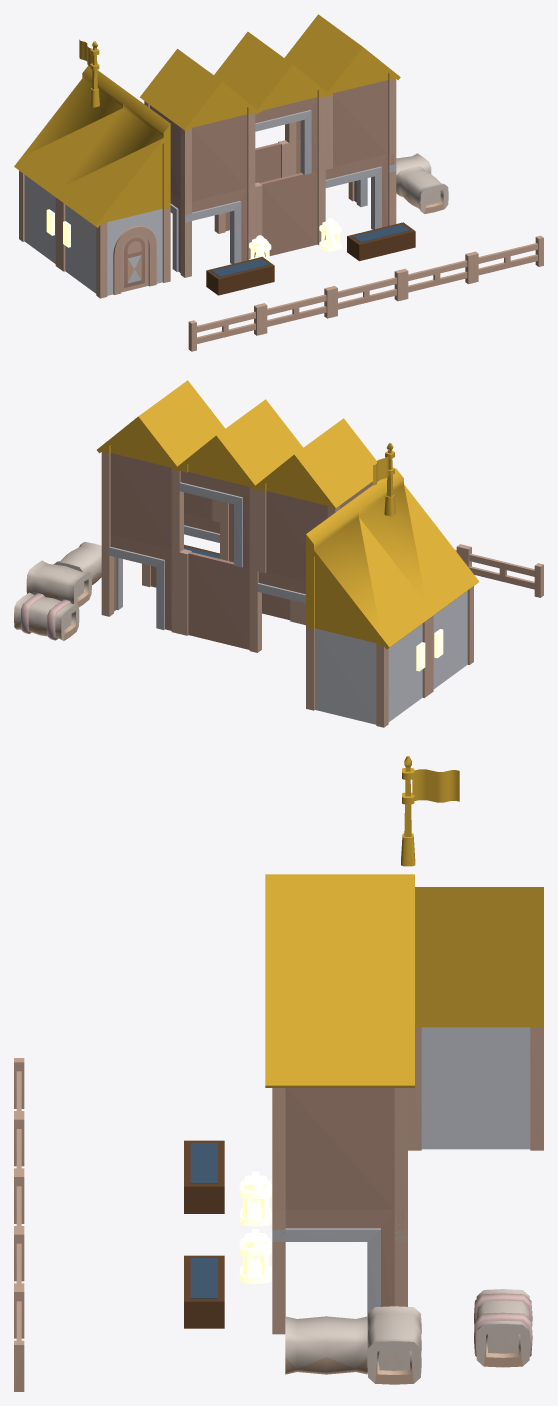
Rendered from stables_l3.glb.
The picture shows the model from 3 angles, top to bottom: view 1: azimuth 30°, elevation 25°; view 2: azimuth 150°, elevation 25°; view 3: azimuth 270°, elevation 25°; orthographic projection. The views are drawn at different scales.
Parts seen in each view (by area): view 1: stables_l3; view 2: stables_l3; view 3: stables_l3.
Boxes of the visible parts, x1,y1,x2,y2 form: stables_l3: [14, 14, 543, 351]; stables_l3: [14, 380, 543, 727]; stables_l3: [14, 756, 543, 1391].
Bounding box in the file's own units: 7.9 × 4.45 × 5.85.
